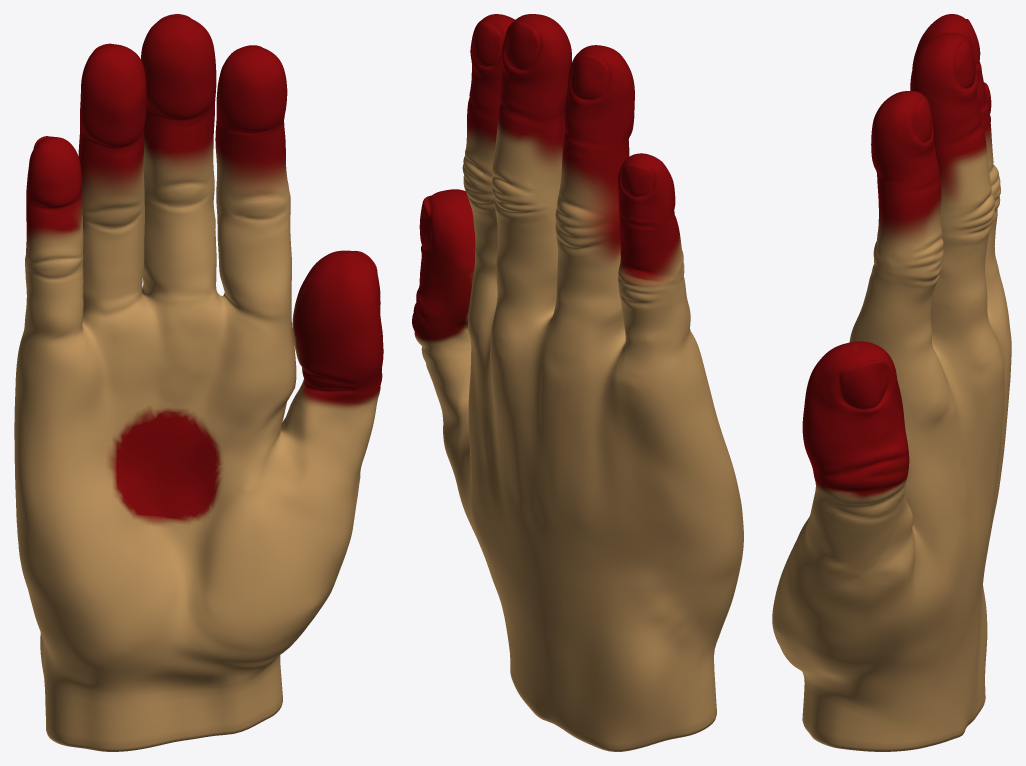
Rendered from pataka_colured.glb.
3 renders of one model, left to right at view 1: azimuth 30°, elevation 25°; view 2: azimuth 150°, elevation 25°; view 3: azimuth 270°, elevation 25°, orthographic. The views are drawn at different scales.
Visible parts, largest first — view 1: 16834_hand_v1_NEW; view 2: 16834_hand_v1_NEW; view 3: 16834_hand_v1_NEW.
Boxes of the visible parts, x1,y1,x2,y2 form: 16834_hand_v1_NEW: (14,14,383,751); 16834_hand_v1_NEW: (412,14,743,751); 16834_hand_v1_NEW: (772,14,1011,751).
Size of the model in its own units: 10.46 by 20.74 by 6.33.
